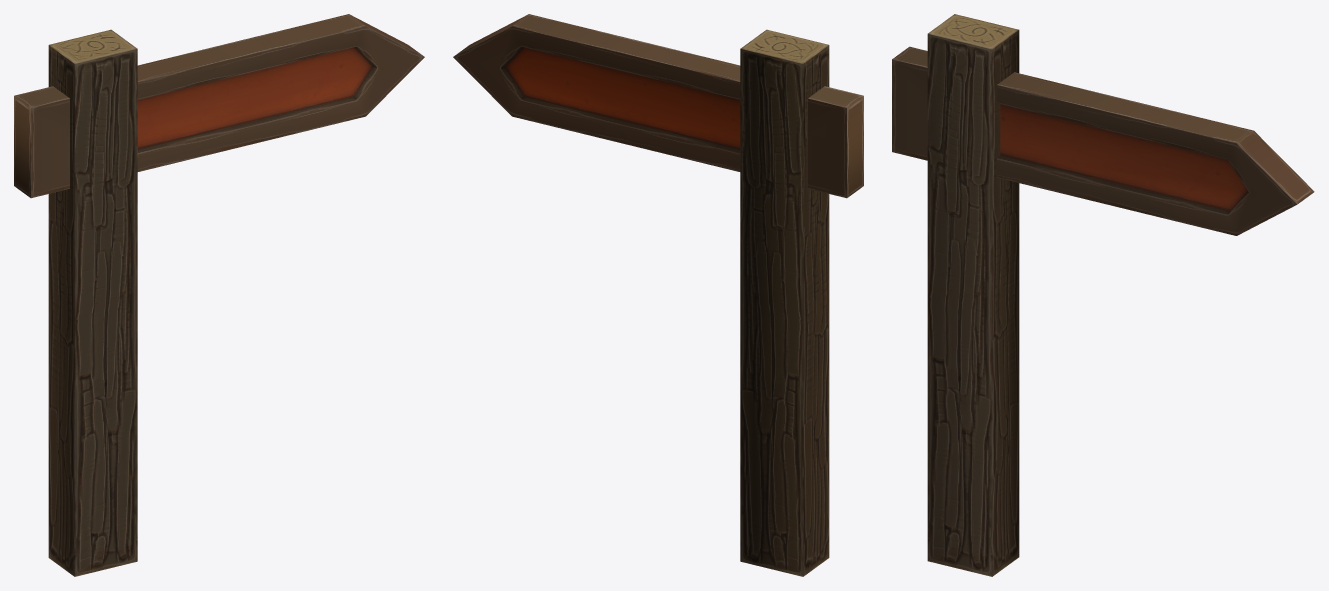
File: SM_SignBoard_01_A.glb
3 renders of one model, left to right at view 1: azimuth 30°, elevation 25°; view 2: azimuth 150°, elevation 25°; view 3: azimuth 330°, elevation 25°, orthographic. The views are drawn at different scales.
Visible parts, largest first — view 1: SM_SignBoard_01_A; view 2: SM_SignBoard_01_A; view 3: SM_SignBoard_01_A.
Boxes of the visible parts, left/top/right/bottom form: SM_SignBoard_01_A: left=14, top=14, right=424, bottom=576; SM_SignBoard_01_A: left=453, top=14, right=863, bottom=576; SM_SignBoard_01_A: left=892, top=14, right=1314, bottom=576.
Bounding box in the file's own units: 1.2 × 1.5 × 0.1384.
1 material, 1 textured.
